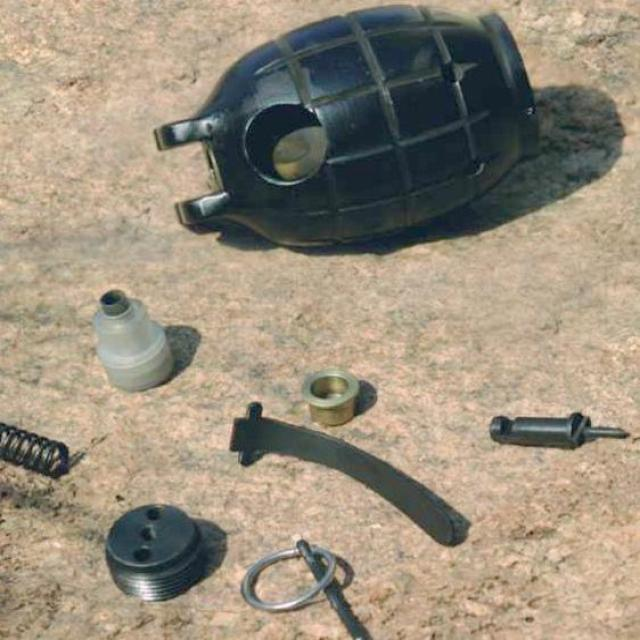grenade: (153, 10, 537, 255)
